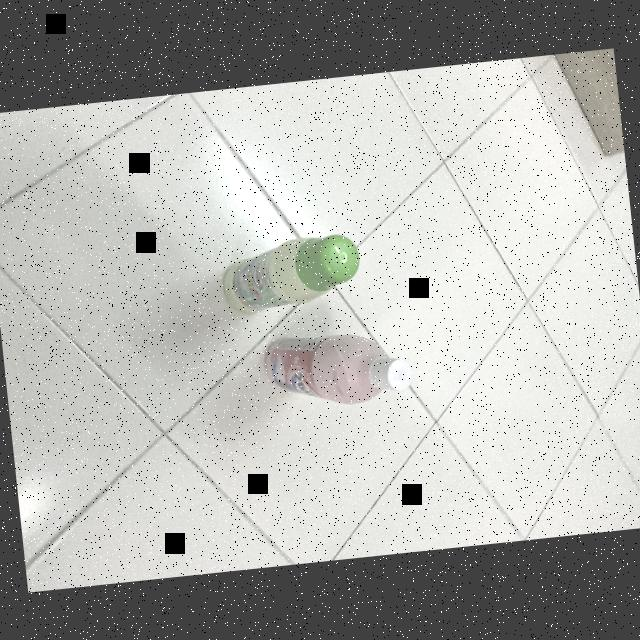chemical_plastic_bottle: (257, 322, 414, 417), (214, 227, 368, 319)
